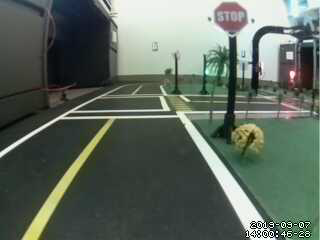Stop_Sign: (210, 2, 257, 39)
